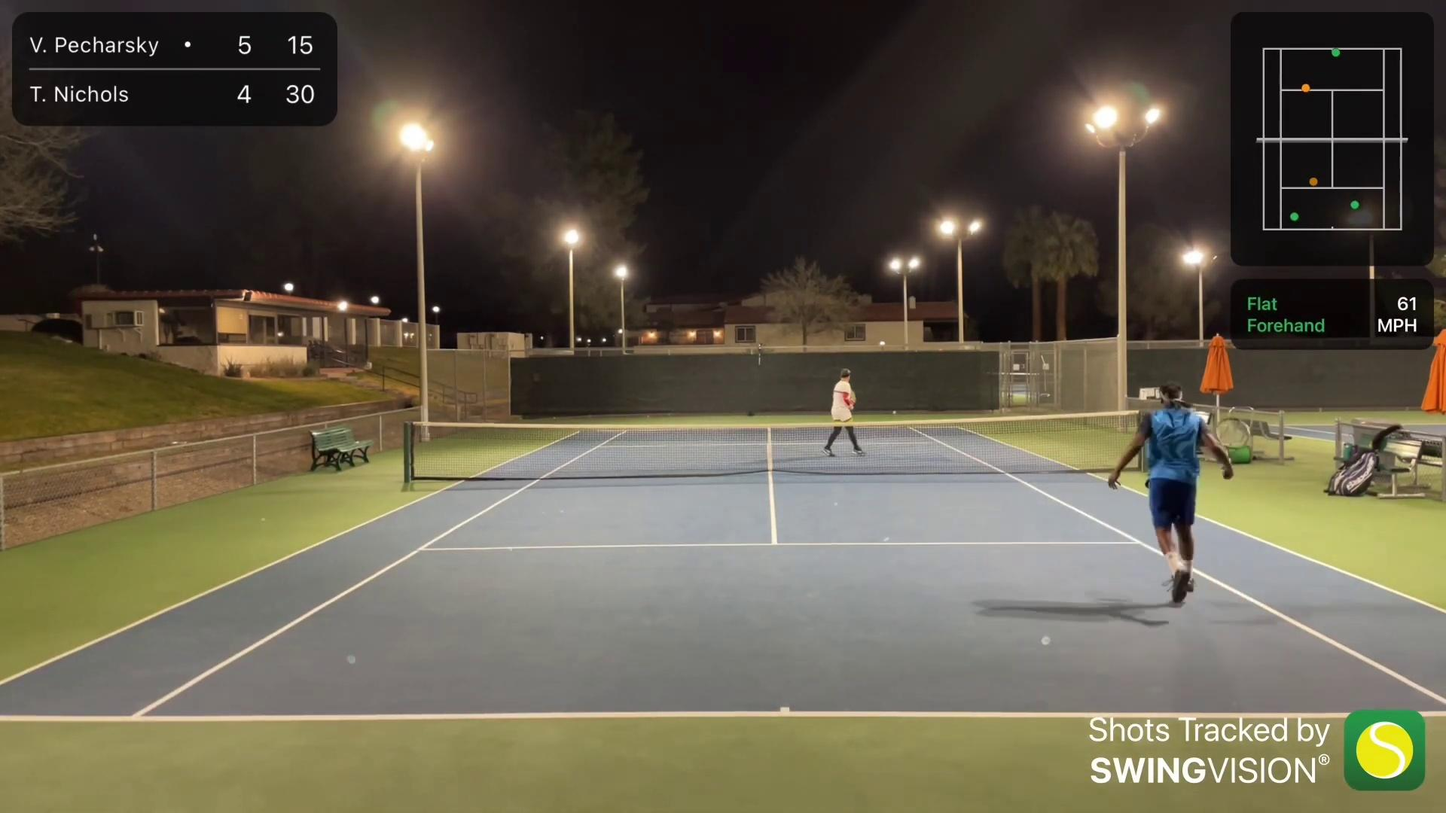ball: (887, 406, 901, 420)
